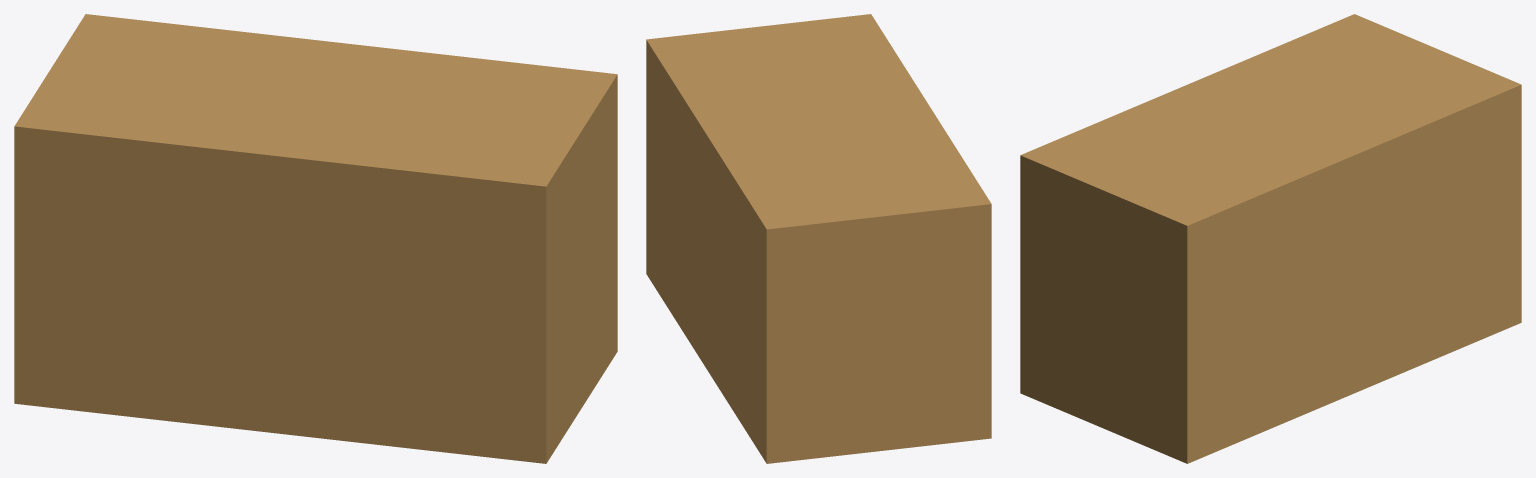
3 views of the same model, side by side, from view 1: azimuth 30°, elevation 25°; view 2: azimuth 150°, elevation 25°; view 3: azimuth 270°, elevation 25° (orthographic). The views are drawn at different scales.
Parts seen in each view (by area): view 1: RUN-019-S00-STUD-02-p3; view 2: RUN-019-S00-STUD-02-p3; view 3: RUN-019-S00-STUD-02-p3.
Part boxes in pixels (x1=…): RUN-019-S00-STUD-02-p3: x1=14, y1=14, x2=617, y2=463; RUN-019-S00-STUD-02-p3: x1=646, y1=14, x2=991, y2=463; RUN-019-S00-STUD-02-p3: x1=1020, y1=14, x2=1521, y2=463.
Bounding box in the file's own units: 0.0955 × 0.05 × 0.0955.
